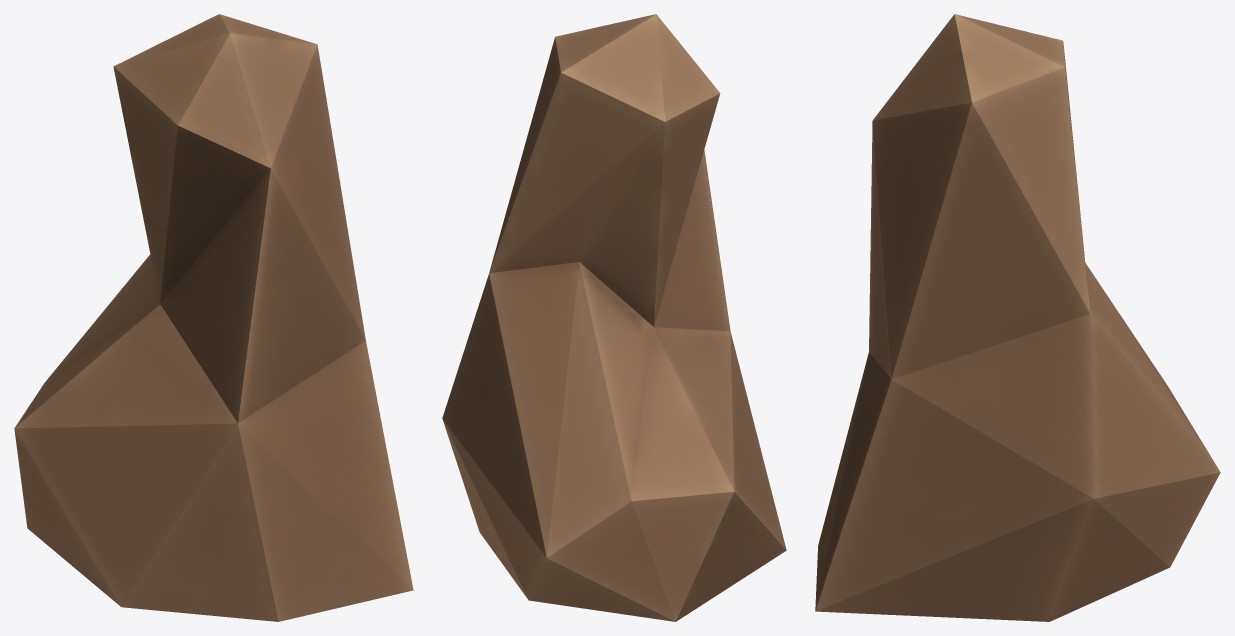
Rendered from Rock_6.fbx.
The picture shows the model from 3 angles, left to right: view 1: azimuth 30°, elevation 25°; view 2: azimuth 150°, elevation 25°; view 3: azimuth 270°, elevation 25°; orthographic projection. The views are drawn at different scales.
Visible parts, largest first — view 1: Rock_6; view 2: Rock_6; view 3: Rock_6.
Boxes of the visible parts, x1,y1,x2,y2 form: Rock_6: [14, 14, 413, 621]; Rock_6: [442, 14, 786, 621]; Rock_6: [815, 14, 1220, 621].
Size of the model in its own units: 29.28 by 49.74 by 33.79.
